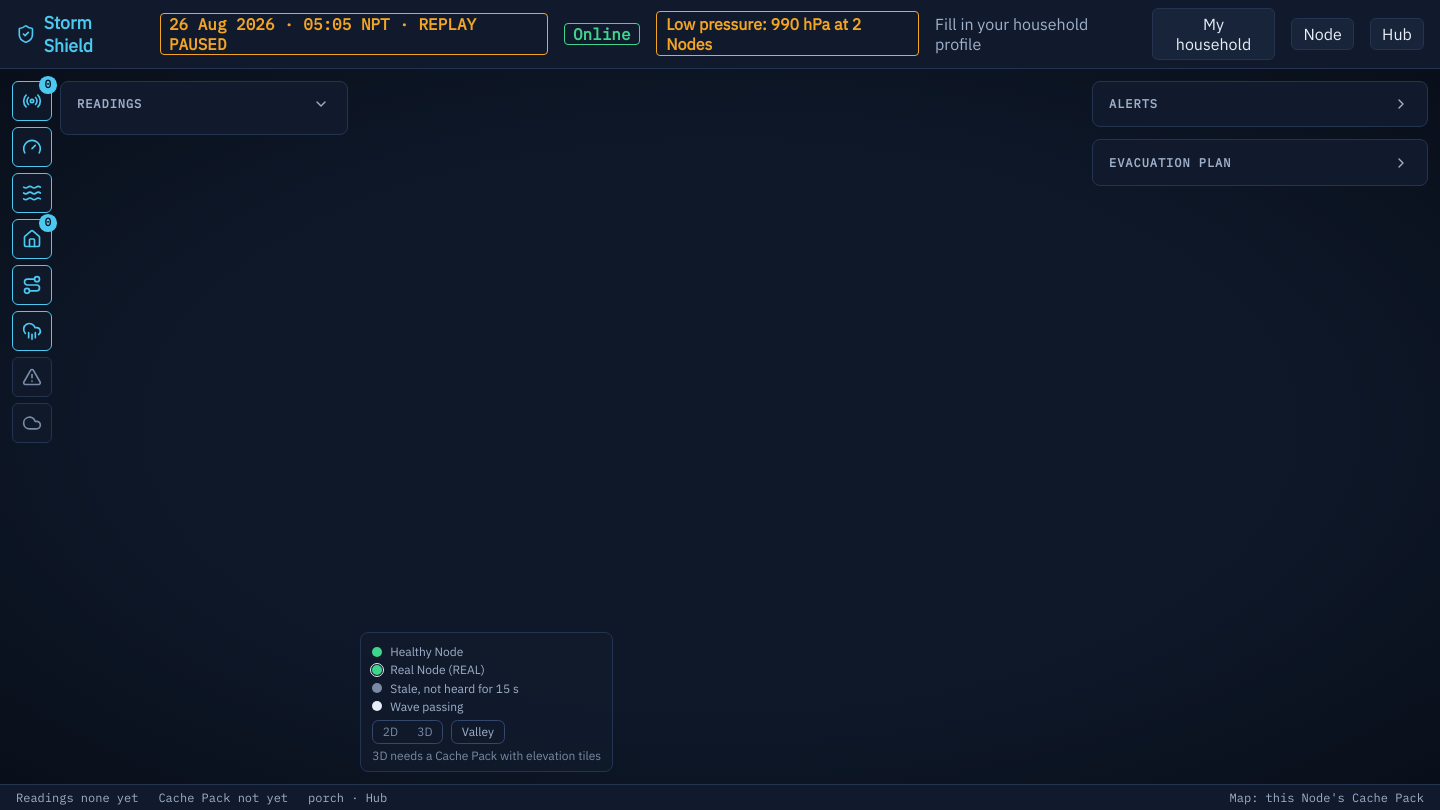
Scenario: the layer buttons › darken the map's edges while the Storm Signal is on, until the button hides it
The width and height of the screenshot is (1440, 810).
Click the button named "Storm Signal": (32, 331) [12,311,52,351]
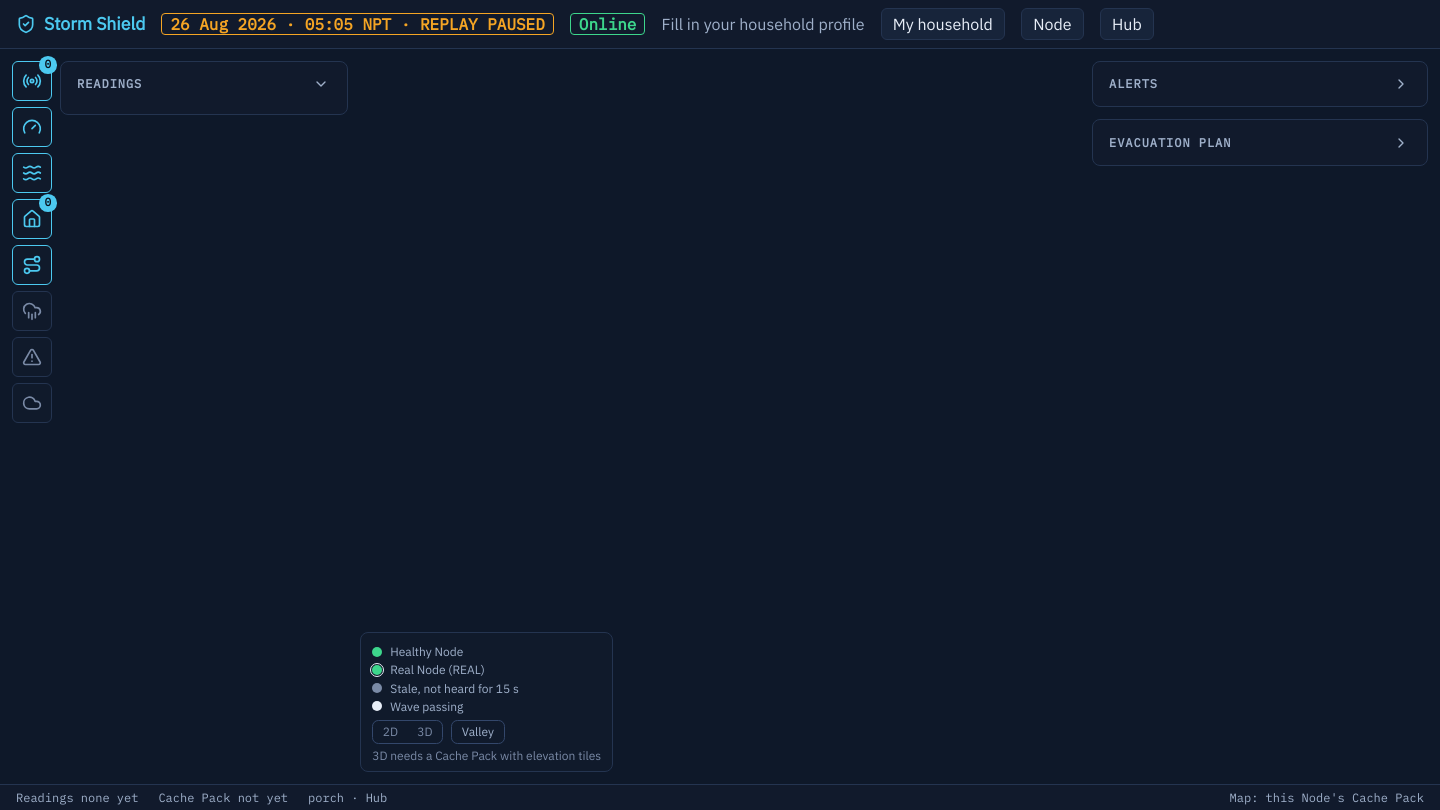
Now the element with class "storm-vignette" is gone
